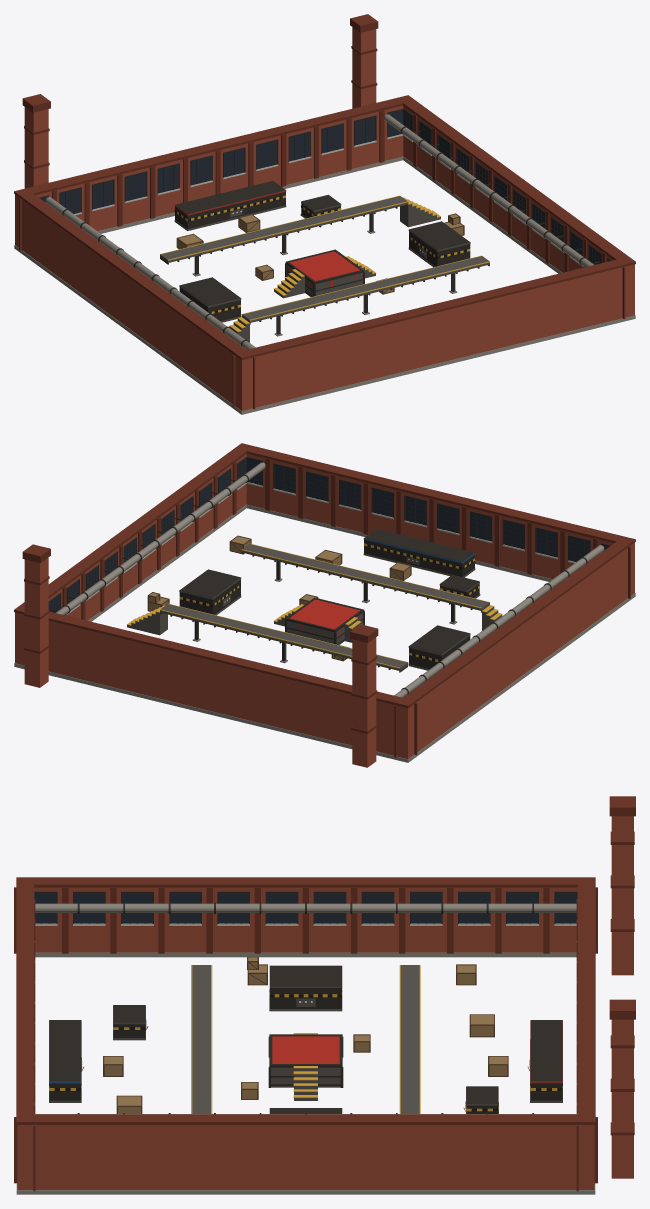
The model's file is fabrica.glb.
3 views of the same model, one above another, from view 1: azimuth 30°, elevation 25°; view 2: azimuth 150°, elevation 25°; view 3: azimuth 270°, elevation 25° (orthographic). The views are drawn at different scales.
Visible parts, largest first — view 1: map_brick.005, map_brick_d.005, map_steel_d.008, map_steel.008, map_glass.011, map_stone_dark.012, map_steel_l.005, map_crane_yellow.006, map_paint_red.005, map_wood.013, map_stone.010, map_wood_dark.013; view 2: map_brick.005, map_brick_d.005, map_steel_d.008, map_steel.008, map_glass.011, map_stone_dark.012, map_steel_l.005, map_crane_yellow.006, map_paint_red.005, map_wood.013, map_stone.010, map_wood_dark.013; view 3: map_brick.005, map_brick_d.005, map_steel_d.008, map_steel.008, map_glass.011, map_stone_dark.012, map_steel_l.005, map_wood.013, map_crane_yellow.006, map_paint_red.005, map_wood_dark.013, map_stone.010.
Boxes of the visible parts, bbox=[...] form: map_brick.005: bbox=[15, 27, 634, 410]; map_brick_d.005: bbox=[14, 14, 635, 409]; map_steel_d.008: bbox=[39, 108, 610, 346]; map_steel.008: bbox=[160, 196, 489, 342]; map_glass.011: bbox=[40, 110, 609, 264]; map_stone_dark.012: bbox=[14, 156, 635, 414]; map_steel_l.005: bbox=[45, 114, 593, 349]; map_crane_yellow.006: bbox=[160, 195, 489, 331]; map_paint_red.005: bbox=[290, 251, 360, 287]; map_wood.013: bbox=[177, 214, 463, 292]; map_stone.010: bbox=[74, 134, 583, 266]; map_wood_dark.013: bbox=[176, 213, 464, 294]; map_brick.005: bbox=[15, 453, 634, 767]; map_brick_d.005: bbox=[14, 443, 635, 757]; map_steel_d.008: bbox=[48, 456, 610, 694]; map_steel.008: bbox=[127, 544, 502, 670]; map_glass.011: bbox=[48, 458, 609, 612]; map_stone_dark.012: bbox=[14, 504, 635, 762]; map_steel_l.005: bbox=[56, 462, 604, 697]; map_crane_yellow.006: bbox=[127, 543, 502, 668]; map_paint_red.005: bbox=[290, 599, 360, 637]; map_wood.013: bbox=[148, 536, 410, 659]; map_stone.010: bbox=[66, 482, 575, 614]; map_wood_dark.013: bbox=[147, 535, 411, 661]; map_brick.005: bbox=[17, 816, 633, 1189]; map_brick_d.005: bbox=[14, 796, 635, 1191]; map_steel_d.008: bbox=[34, 891, 577, 1114]; map_steel.008: bbox=[49, 965, 562, 1113]; map_glass.011: bbox=[34, 893, 577, 923]; map_stone_dark.012: bbox=[16, 952, 595, 1194]; map_steel_l.005: bbox=[34, 903, 577, 1114]; map_wood.013: bbox=[104, 957, 507, 1113]; map_crane_yellow.006: bbox=[49, 965, 562, 1113]; map_paint_red.005: bbox=[272, 1036, 339, 1074]; map_wood_dark.013: bbox=[103, 956, 508, 1113]; map_stone.010: bbox=[35, 923, 576, 925].
Size of the model in its own units: 72.8 by 23.27 by 77.55.
